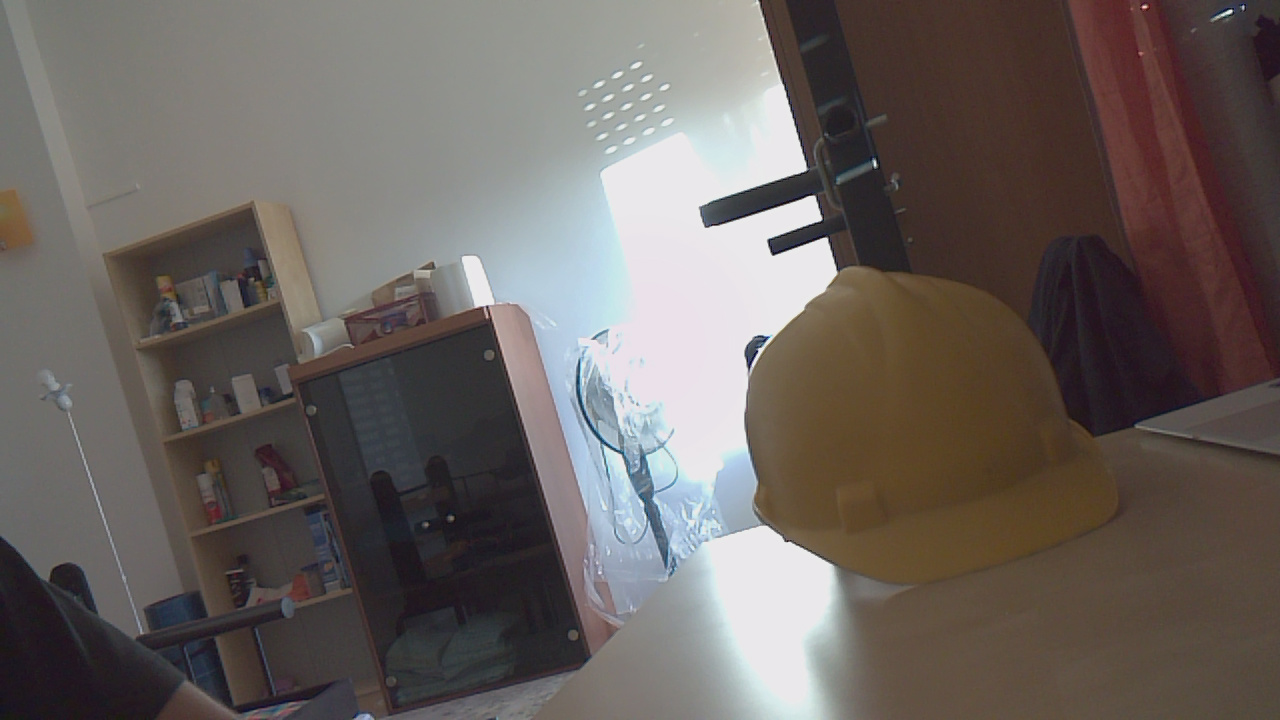Helmet: (742, 273, 1134, 592)
